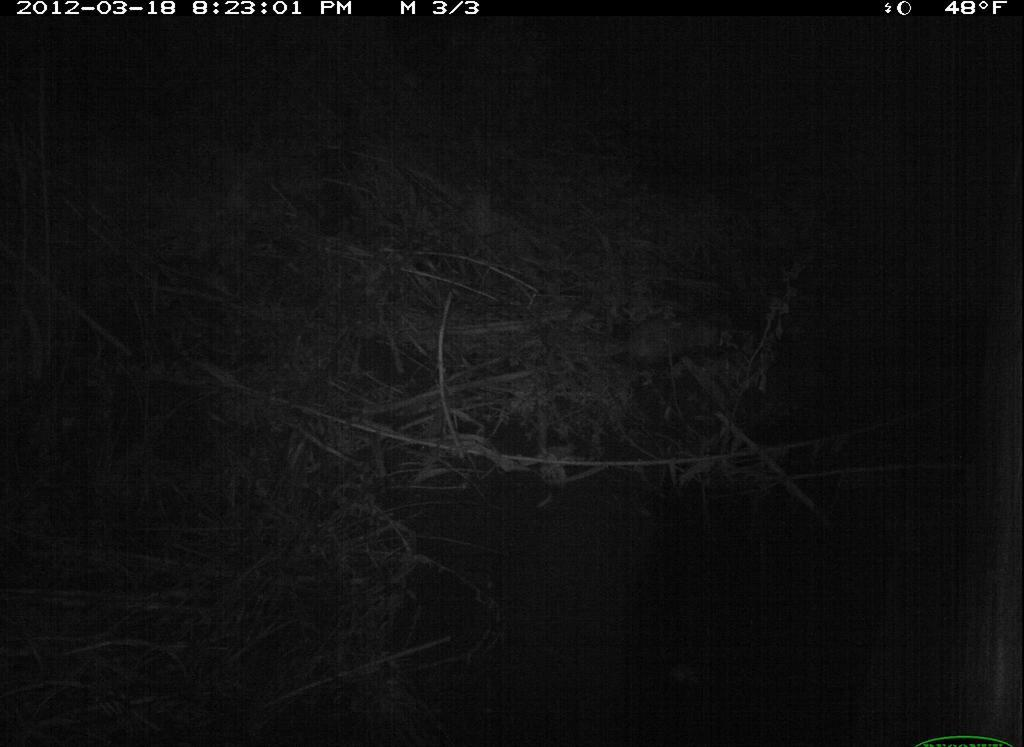opossum: (564, 316, 733, 373)
